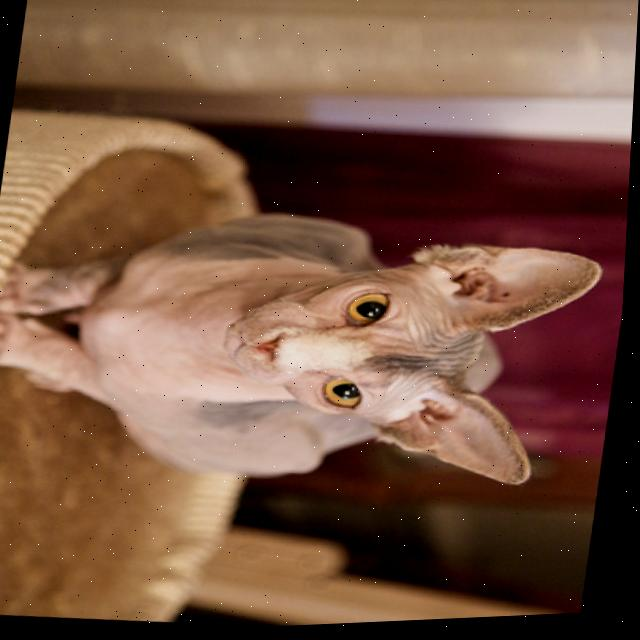Sphynx: (0, 172, 622, 520)
